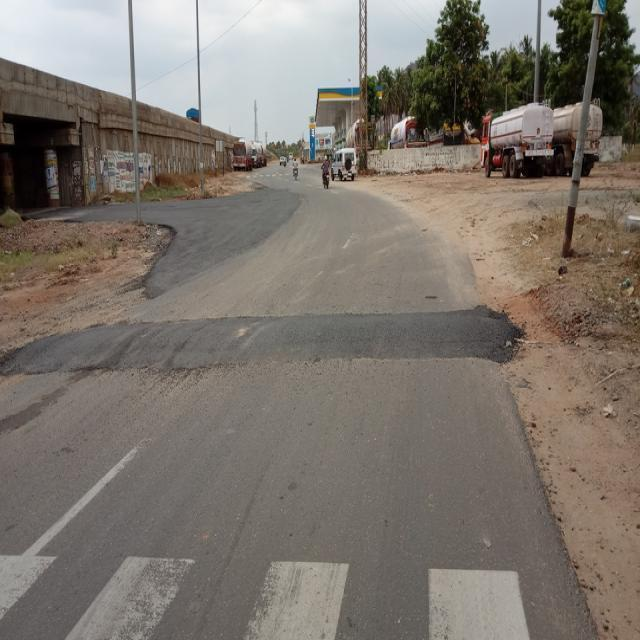Speed_Breaker: (0, 307, 528, 386), (2, 306, 519, 374)
